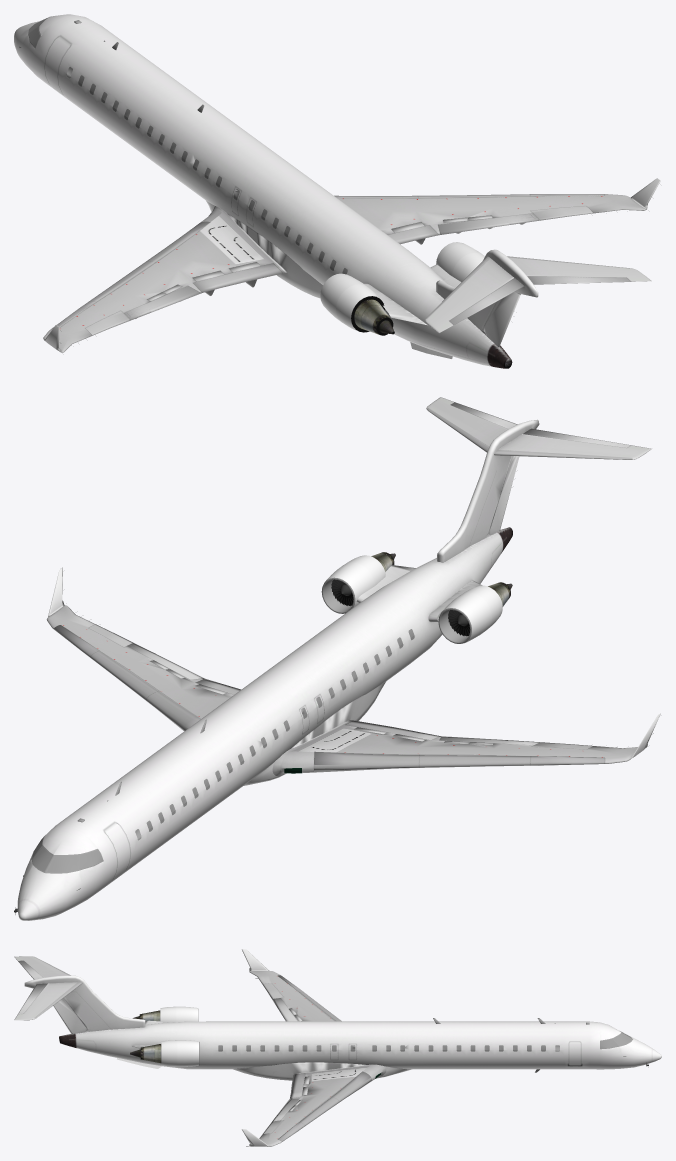
Rendered from crj900.glb.
The picture shows the model from 3 angles, top to bottom: view 1: azimuth 30°, elevation 25°; view 2: azimuth 150°, elevation 25°; view 3: azimuth 270°, elevation 25°; orthographic projection. The views are drawn at different scales.
Visible parts, largest first — view 1: Fuselage, Wings, Hstabs, Belly, Vstab, Windows, FlapL1, SlatsL, Rudder, FlapR2, Nozzle_001, Nacelle_001 (+12 smaller); view 2: Fuselage, Wings, Hstabs, Vstab, SlatsL, SlatsR, Belly, Windows, CockpitWindows, Nacelle_001, Nacelle, EnginePylons (+1 smaller); view 3: Fuselage, Wings, Vstab, Hstabs, Belly, SlatsR, Windows, Nacelle, Rudder, Winglets, Reverser, Nozzle (+2 smaller).
Boxes of the visible parts, x1,y1,x2,y2 form: Fuselage: (14, 14, 512, 368); Wings: (43, 194, 645, 352); Hstabs: (425, 256, 651, 333); Belly: (205, 200, 322, 298); Vstab: (436, 249, 538, 346); Windows: (66, 67, 347, 274); FlapL1: (193, 263, 282, 295); SlatsL: (51, 221, 210, 328); Rudder: (483, 292, 520, 346); FlapR2: (438, 214, 539, 234); Nozzle_001: (354, 299, 394, 334); Nacelle_001: (320, 273, 367, 321); Fuselage: (17, 527, 512, 920); Wings: (46, 605, 637, 776); Hstabs: (426, 397, 651, 459); Vstab: (437, 419, 539, 562); SlatsL: (314, 751, 604, 771); SlatsR: (54, 625, 200, 731); Belly: (244, 682, 385, 785); Windows: (135, 629, 414, 840); CockpitWindows: (32, 837, 102, 872); Nacelle_001: (441, 592, 491, 643); Nacelle: (324, 562, 374, 606); EnginePylons: (356, 565, 482, 621); Fuselage: (59, 1021, 661, 1069); Wings: (249, 970, 386, 1146); Vstab: (24, 975, 145, 1033); Hstabs: (14, 956, 82, 1020); Belly: (233, 1062, 411, 1080); SlatsR: (278, 1071, 371, 1141); Windows: (218, 1045, 559, 1051); Nacelle: (177, 1040, 198, 1066); Rudder: (53, 998, 87, 1033); Winglets: (242, 949, 268, 1146); Reverser: (161, 1040, 177, 1066); Nozzle: (130, 1044, 161, 1063).
Size of the model in its own units: 23.91 by 6.09 by 36.36.
Materials: 12 (6 with a texture image).
